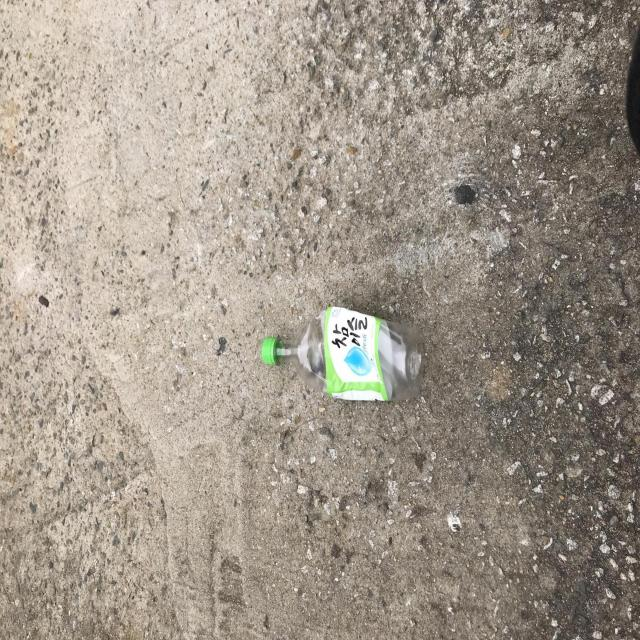plastic: (262, 307, 424, 401)
